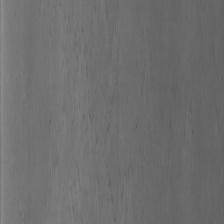silk_spot: (66, 20, 131, 218)
